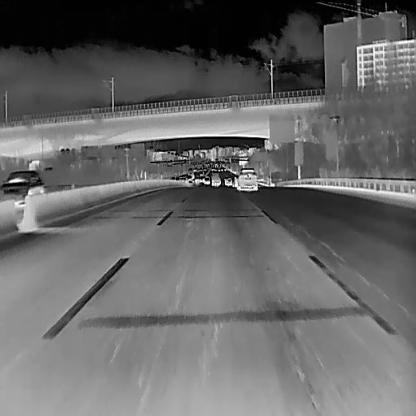car: (0, 169, 43, 197), (236, 168, 257, 191), (224, 176, 232, 184), (204, 176, 210, 184)
truck: (212, 172, 221, 186)
